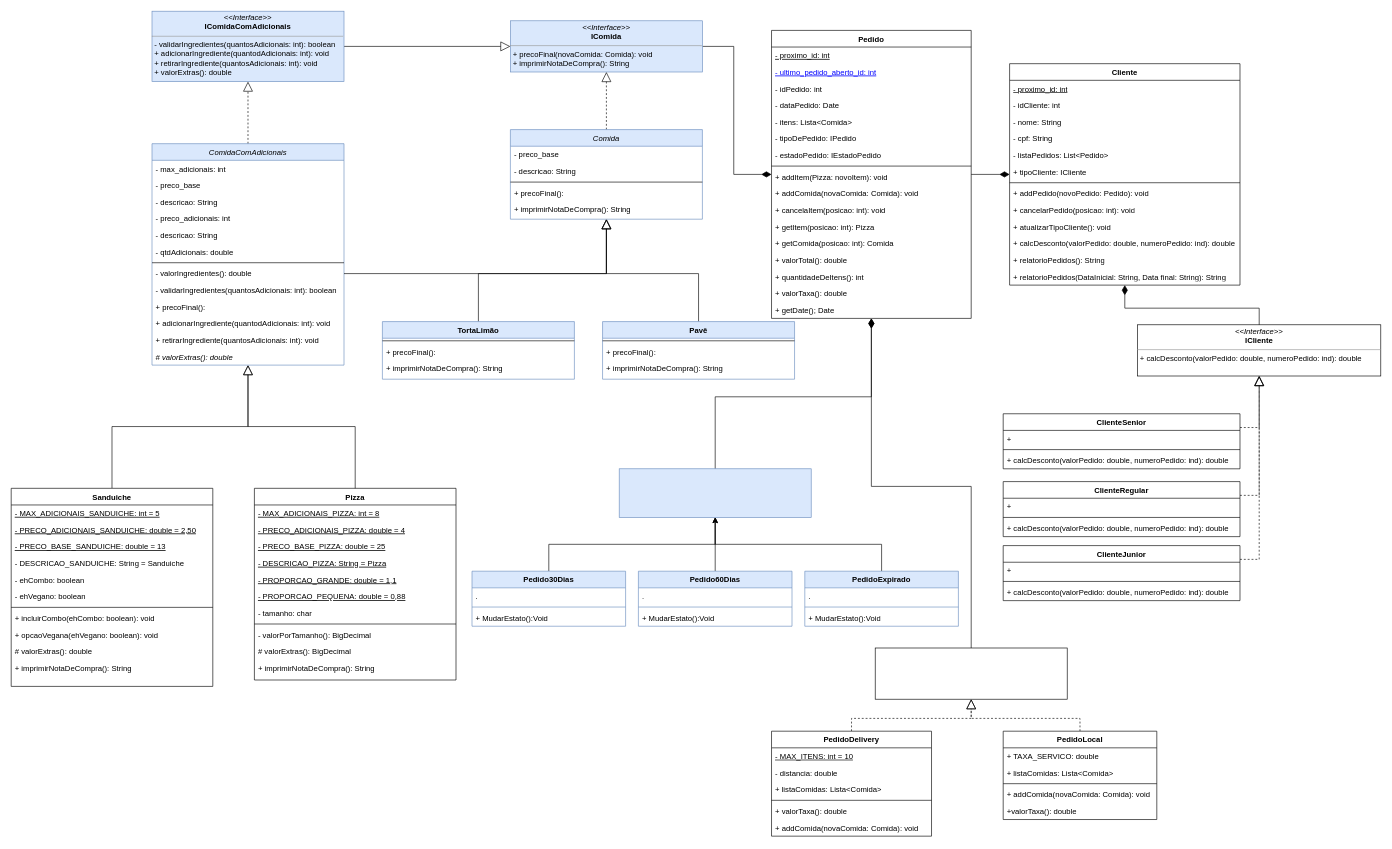
Some shapes in this 1392 by 849 pixel diagram are drawn without their labels. Each missing label, with the centre of its shape:
"<<Interface>> IEstadoPedido + MudarEstato():Void" goes at point 715,492.
"<<Interface>> IPedido + addComida(novaComida: Comida): void + valorTaxa(): doube" goes at point 971,673.
